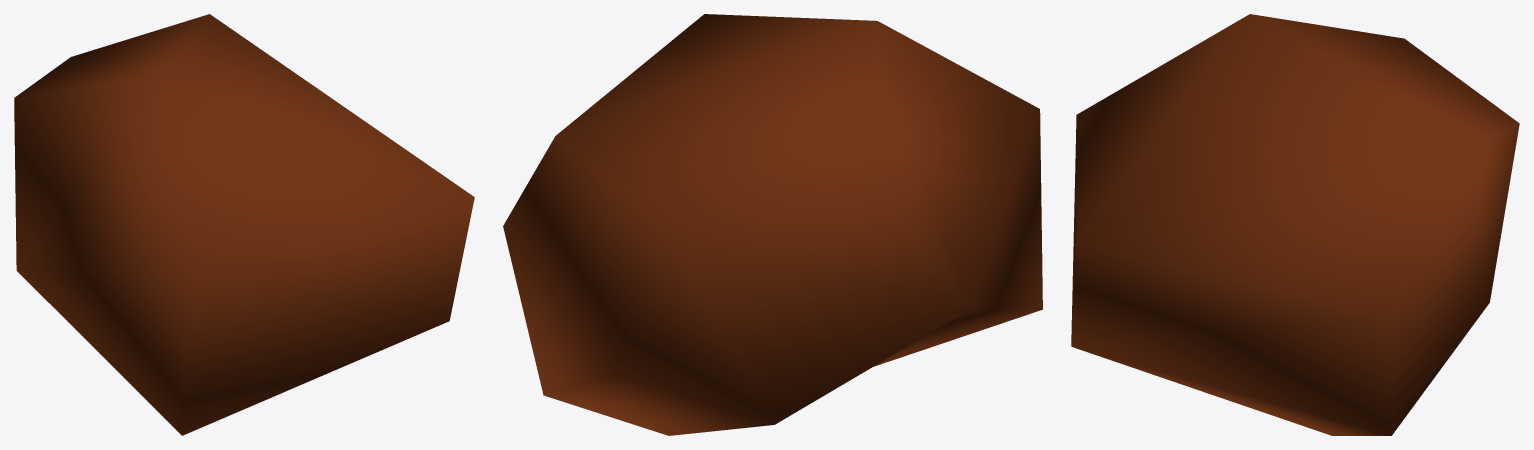
The model's file is FM_M_Well_Stone_12.fbx.
The picture shows the model from 3 angles, left to right: view 1: azimuth 30°, elevation 25°; view 2: azimuth 150°, elevation 25°; view 3: azimuth 270°, elevation 25°; orthographic projection. The views are drawn at different scales.
Visible parts, largest first — view 1: FM_M_Well_Stone_12; view 2: FM_M_Well_Stone_12; view 3: FM_M_Well_Stone_12.
Part boxes in pixels (x1,y1,x2,y2): FM_M_Well_Stone_12: (14,14,474,435); FM_M_Well_Stone_12: (503,14,1042,435); FM_M_Well_Stone_12: (1071,14,1519,435).
Bounding box in the file's own units: 0.282 × 0.2671 × 0.3053.
